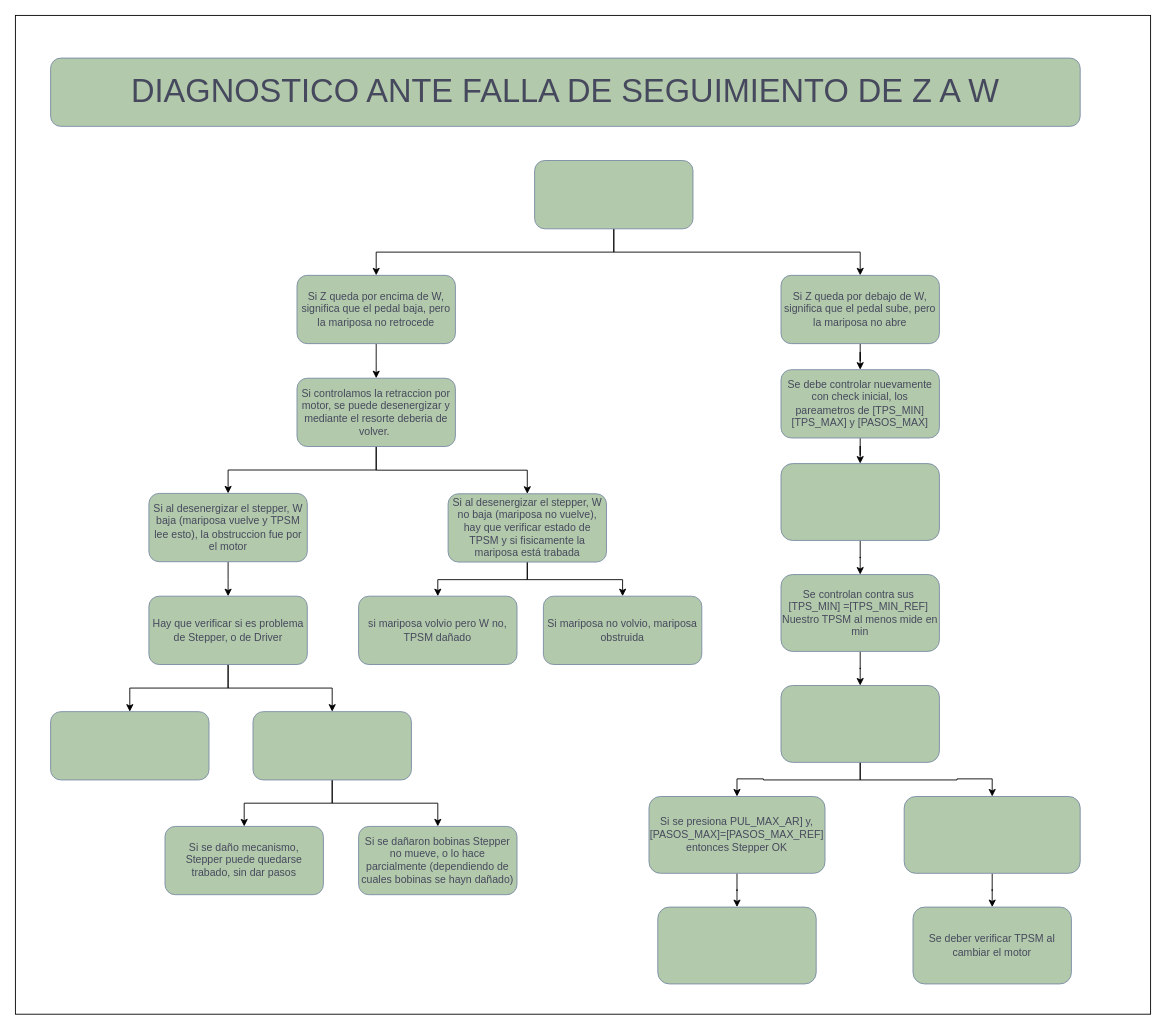
The diagram is 1166 pixels wide and 1030 high, and some of its shapes have lost their labels. Each missing label, with the box of its shape:
Posteriormente el motor va a mover hasta llegar a max y presionar el pul_max_mar: (780, 685, 939, 762)
Se controlan contra sus [TPS_MIN_REF] [TPS_MAX_REF] y [PASOS_MAX_REF],: (780, 463, 939, 540)
Si para [PASOS_MAX], [TPSM_MAX] fuera de tolerancia. TPSM dañado: (657, 906, 816, 984)
Si se daño Stepper puede darse 2 cosas: (252, 711, 411, 780)
Si se dañó el driver puede dejar una salida que no responda a control: (50, 711, 209, 780)
Si stepper nunca llega a presionar PUL_MAX_MAR, Stepper dañado: (903, 796, 1080, 873)
Si Z se aleja de W por mas de 5% algo esta retrasando su movimiento: (534, 160, 693, 229)
